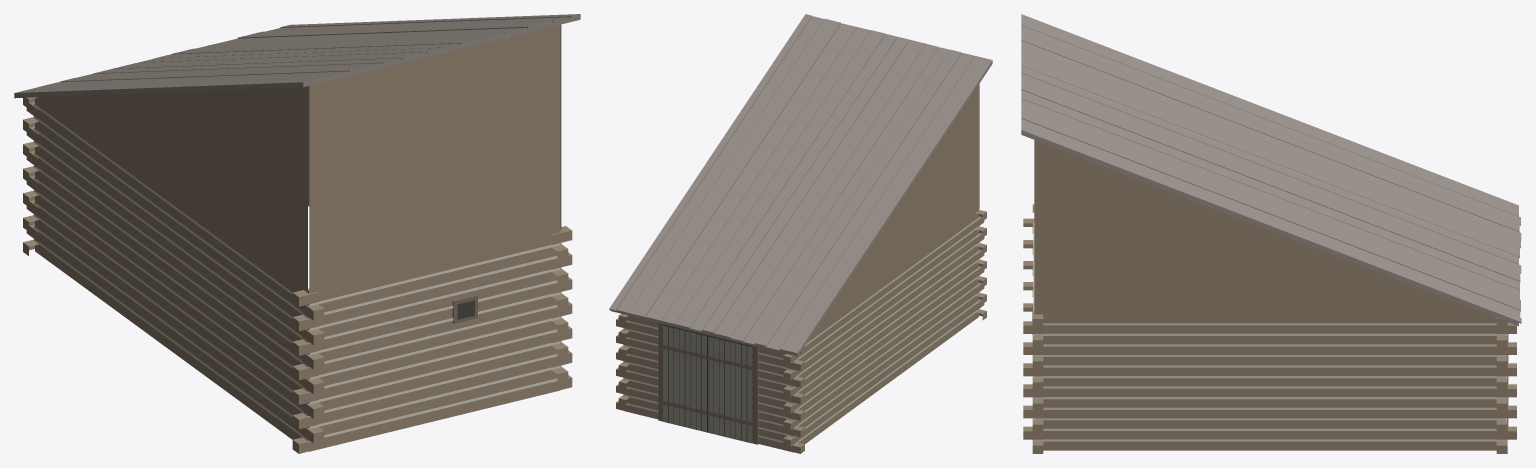
The model's file is north_bank_shed_dearborn_e2__shed_1835.glb.
3 views of the same model, side by side, from view 1: azimuth 30°, elevation 25°; view 2: azimuth 150°, elevation 25°; view 3: azimuth 270°, elevation 25° (orthographic). The views are drawn at different scales.
Visible parts, largest first — view 1: north_bank_shed_dearborn_e2__shed_1835; view 2: north_bank_shed_dearborn_e2__shed_1835; view 3: north_bank_shed_dearborn_e2__shed_1835.
Part boxes in pixels (x1,y1,x2,y2): north_bank_shed_dearborn_e2__shed_1835: (14,14,580,453); north_bank_shed_dearborn_e2__shed_1835: (609,14,992,453); north_bank_shed_dearborn_e2__shed_1835: (1021,14,1521,453).
Size of the model in its own units: 6.05 by 7.91 by 10.99.
